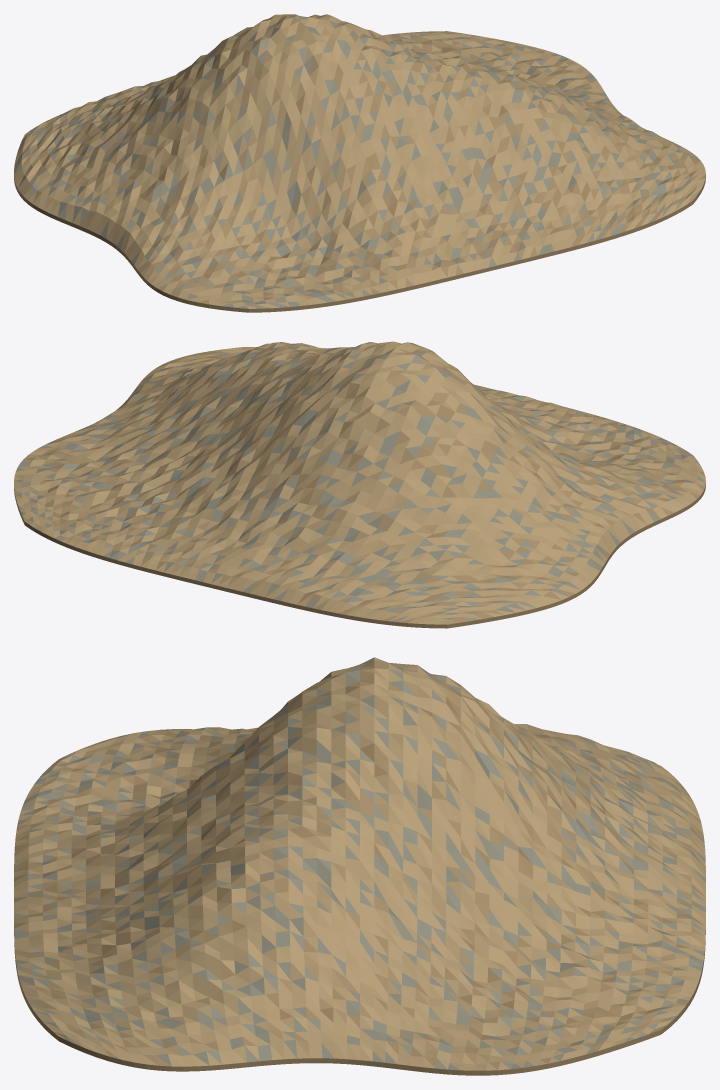
The picture shows the model from 3 angles, top to bottom: view 1: azimuth 30°, elevation 25°; view 2: azimuth 150°, elevation 25°; view 3: azimuth 270°, elevation 25°; orthographic projection. The views are drawn at different scales.
Visible parts, largest first — view 1: irregular_ice_contact_sand_gravel_kame_mound_unequal_crest_s; view 2: irregular_ice_contact_sand_gravel_kame_mound_unequal_crest_s; view 3: irregular_ice_contact_sand_gravel_kame_mound_unequal_crest_s.
Part boxes in pixels (x1,y1,x2,y2): irregular_ice_contact_sand_gravel_kame_mound_unequal_crest_s: (14,14,705,312); irregular_ice_contact_sand_gravel_kame_mound_unequal_crest_s: (14,341,705,628); irregular_ice_contact_sand_gravel_kame_mound_unequal_crest_s: (14,657,705,1075).
Size of the model in its own units: 82.8 by 22.91 by 70.
